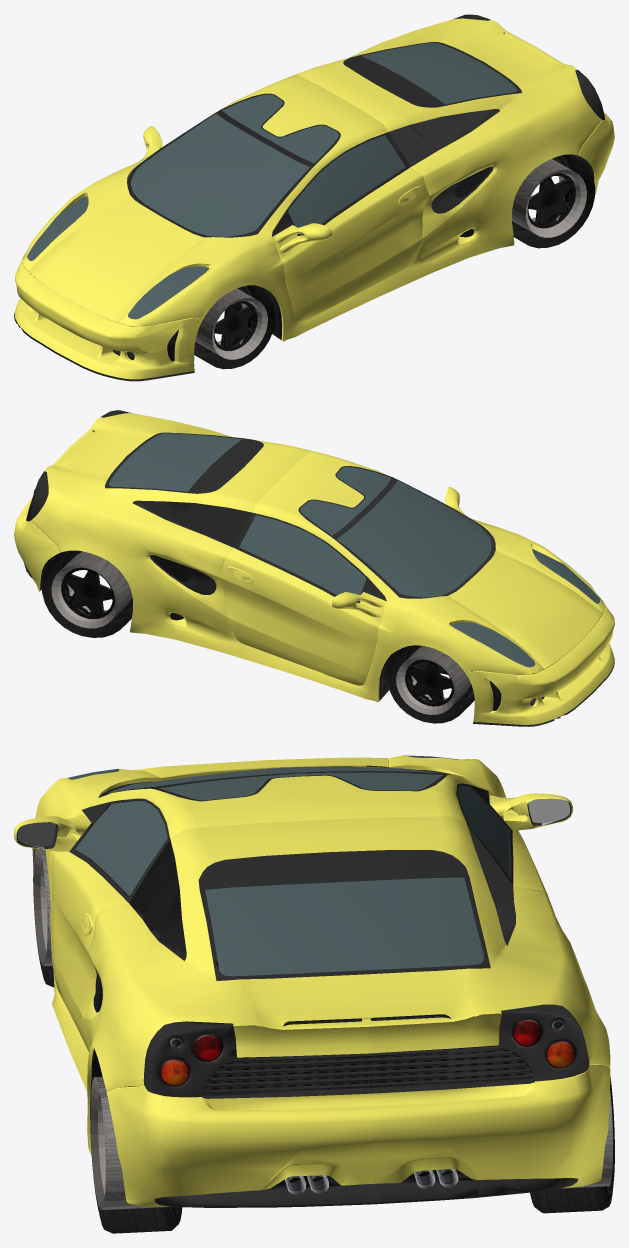
File: car_02.glb
3 renders of one model, top to bottom at view 1: azimuth 30°, elevation 25°; view 2: azimuth 150°, elevation 25°; view 3: azimuth 270°, elevation 25°, orthographic. The views are drawn at different scales.
Parts seen in each view (by area): view 1: CAr001; view 2: CAr001; view 3: CAr001.
Boxes of the visible parts, x1,y1,x2,y2 form: CAr001: (14,14,614,381); CAr001: (14,410,614,726); CAr001: (14,755,614,1233).
Size of the model in its own units: 4.95 by 1.52 by 2.58.
Materials: 5 (4 with a texture image).
